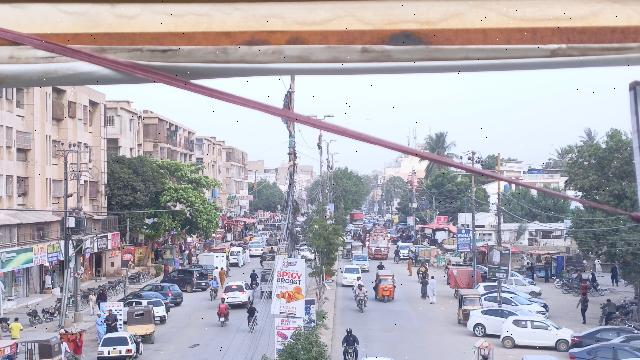Bike: (596, 310, 622, 326), (342, 343, 360, 360), (355, 295, 369, 316), (245, 315, 260, 334), (206, 286, 220, 302), (217, 313, 230, 328)
Car: (495, 314, 572, 350), (466, 305, 525, 337), (159, 268, 211, 293), (95, 332, 142, 357), (141, 281, 185, 307), (222, 281, 253, 307), (340, 264, 362, 287)
Person: (574, 290, 591, 324), (341, 326, 360, 347), (105, 308, 120, 334), (7, 315, 23, 338), (426, 274, 438, 304), (69, 332, 83, 356), (94, 311, 106, 338), (58, 336, 69, 360), (217, 296, 230, 316), (603, 296, 616, 315), (419, 275, 429, 299), (246, 300, 258, 318), (209, 272, 220, 288), (356, 284, 367, 296)
Rickshaw: (126, 304, 157, 344), (13, 337, 63, 360), (454, 286, 481, 327), (371, 269, 398, 304), (259, 268, 274, 299)
